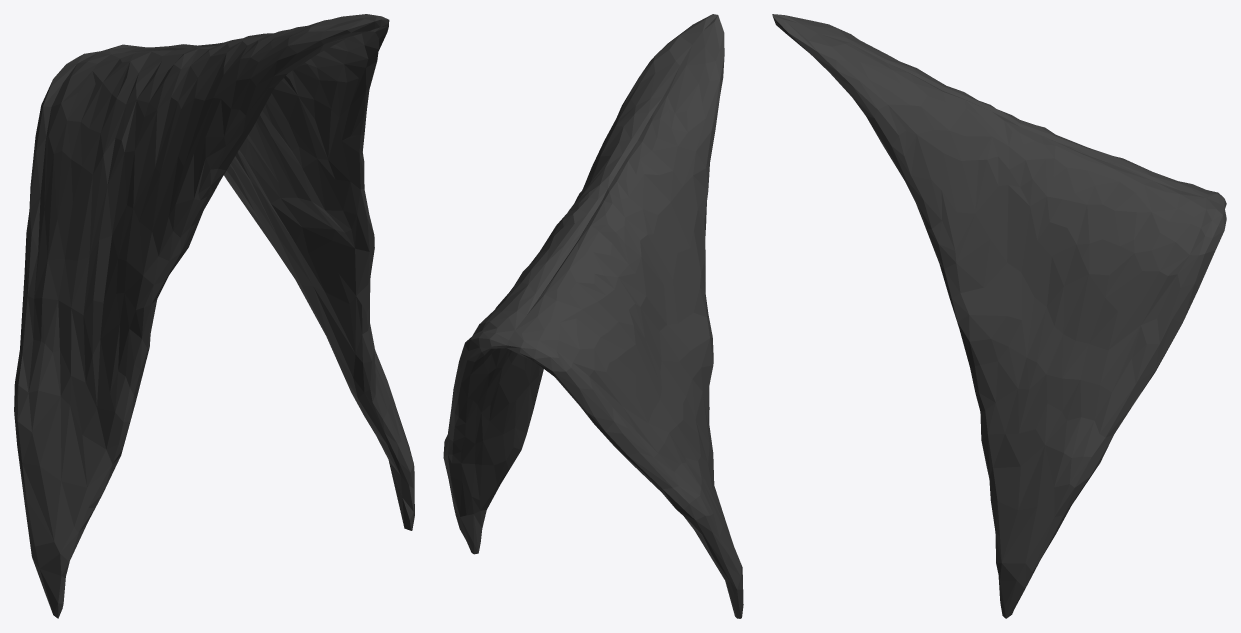
The model's file is m_trapezius_cervical.glb.
The picture shows the model from 3 angles, left to right: view 1: azimuth 30°, elevation 25°; view 2: azimuth 150°, elevation 25°; view 3: azimuth 270°, elevation 25°; orthographic projection. The views are drawn at different scales.
Parts seen in each view (by area): view 1: m_trapezius_cervical; view 2: m_trapezius_cervical; view 3: m_trapezius_cervical.
Boxes of the visible parts, left/top/right/bottom form: m_trapezius_cervical: left=14, top=14, right=414, bottom=618; m_trapezius_cervical: left=443, top=14, right=743, bottom=618; m_trapezius_cervical: left=772, top=14, right=1226, bottom=618.
Bounding box in the file's own units: 0.00538 × 0.00901 × 0.00696.
Materials: 1 (1 with a texture image).
